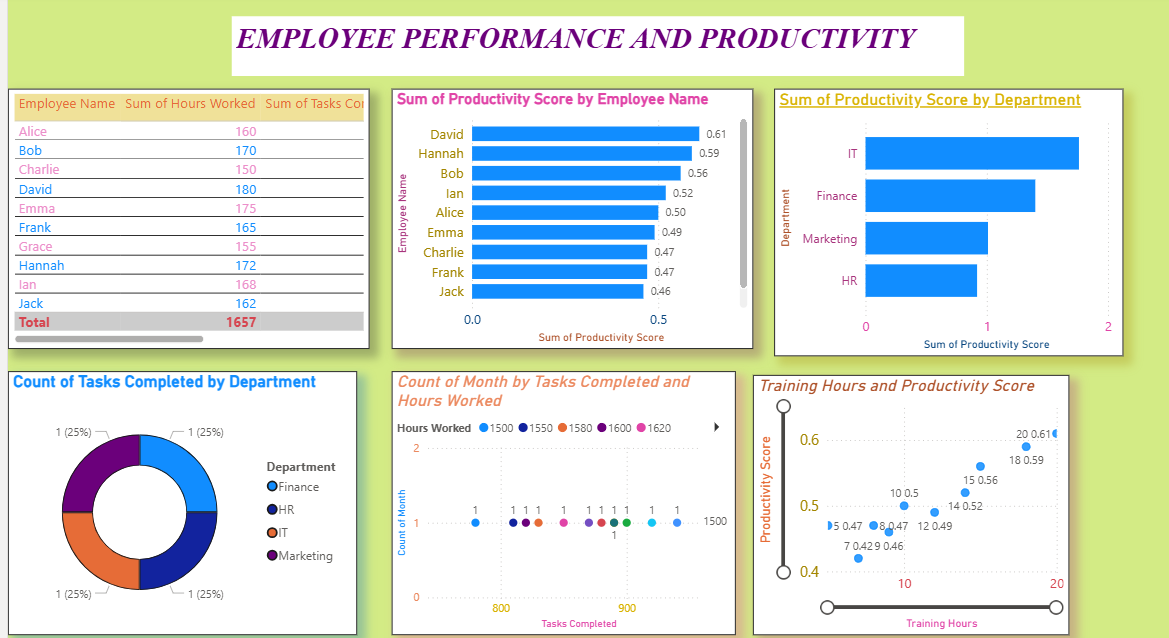

What the dashboard file says about the page in this screenshot:
{"tool":"powerbi","page":{"name":"employee performance and productivity","canvas":[1280,720],"ordinal":0},"visuals":[{"type":"clusteredBarChart","fields":{"Category":["Department Analysis.Department"],"Y":["Employee Performance.Productivity Score"]},"box":[841.2,102.9,382.8,293.7],"z":0},{"type":"donutChart","fields":{"Y":["Department Analysis.Tasks Completed"],"Category":["Department Analysis.Department"]},"box":[0,413,382.8,289.5],"z":1000},{"type":"lineChart","fields":{"Y":["Time Trends.Month"],"Category":["Time Trends.Tasks Completed"],"Series":["Time Trends.Hours Worked"]},"box":[421.3,413,377.4,289.5],"z":2000},{"type":"scatterChart","fields":{"X":["Training Impact.Training Hours"],"Y":["Training Impact.Productivity Score"]},"box":[817.8,417.2,347.2,285.4],"z":3000},{"type":"barChart","fields":{"Y":["Employee Performance.Productivity Score"],"Category":["Employee Performance.Employee Name"]},"box":[436.4,102.9,381.5,285.4],"z":4000},{"type":"tableEx","fields":{"Values":["Employee Performance.Employee Name","Employee Performance.Hours Worked","Employee Performance.Tasks Completed","Employee Performance.Productivity Score","Employee Performance.Department"]},"box":[0,102.9,421.3,269],"z":5000},{"type":"textbox","box":[245.6,23.3,804.1,65.9],"z":6000}]}

Visuals, with their boxes in screenshot pixels (x1, y1, x2, y2):
clusteredBarChart - Department Analysis.Department x Employee Performance.Productivity Score: [x1=770, y1=90, x2=1117, y2=357]
donutChart - Department Analysis.Tasks Completed x Department Analysis.Department: [x1=6, y1=372, x2=354, y2=635]
lineChart - Time Trends.Month x Time Trends.Tasks Completed: [x1=389, y1=372, x2=731, y2=635]
scatterChart - Training Impact.Training Hours x Training Impact.Productivity Score: [x1=749, y1=376, x2=1064, y2=635]
barChart - Employee Performance.Productivity Score x Employee Performance.Employee Name: [x1=402, y1=90, x2=749, y2=349]
tableEx - Employee Performance.Employee Name x Employee Performance.Hours Worked: [x1=6, y1=90, x2=389, y2=335]
textbox: [x1=229, y1=18, x2=959, y2=78]
